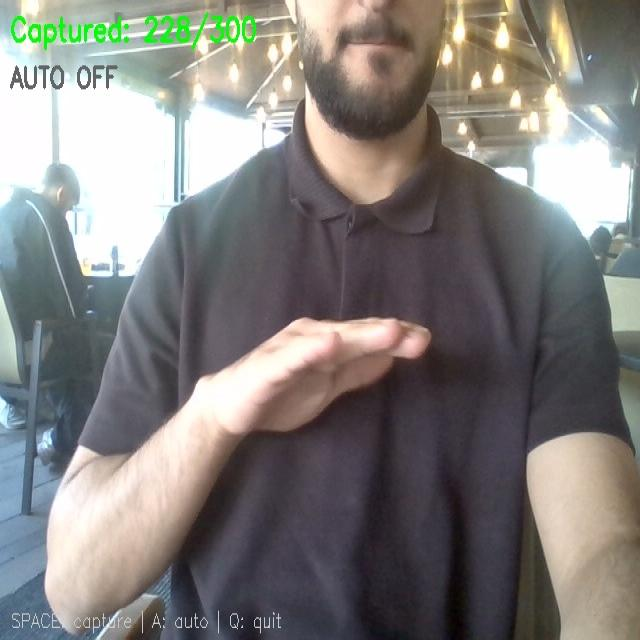Hand: (192, 319, 429, 435)
